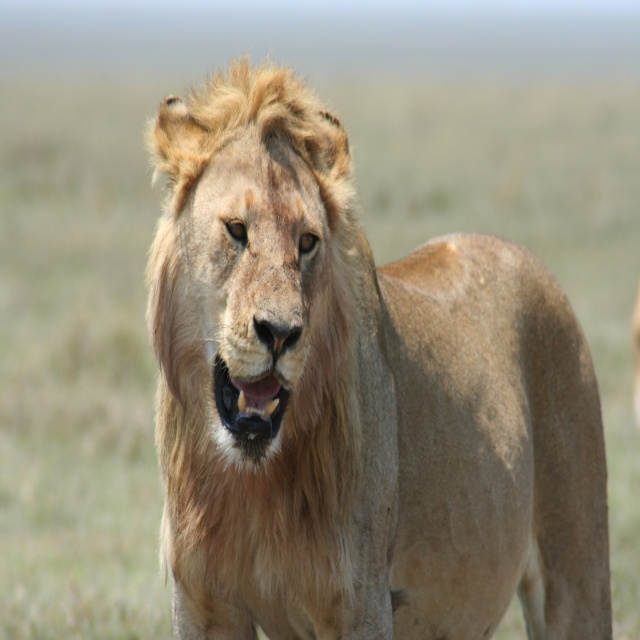Lion: (143, 50, 612, 639)
